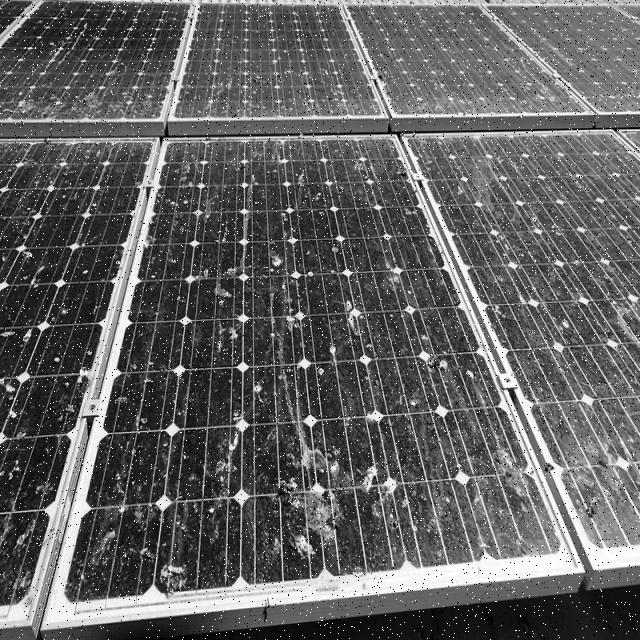bird drop: (72, 142, 570, 610)
